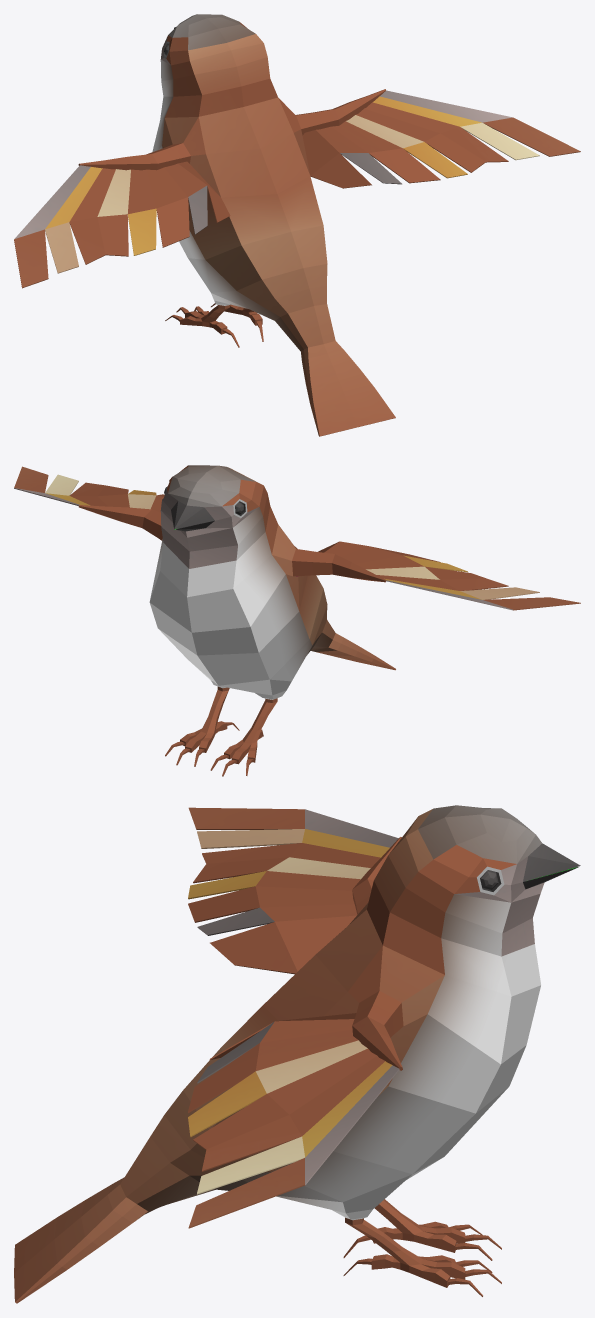
Rendered from SM_Bird.fbx.
3 renders of one model, top to bottom at view 1: azimuth 30°, elevation 25°; view 2: azimuth 150°, elevation 25°; view 3: azimuth 270°, elevation 25°, orthographic. The views are drawn at different scales.
Visible parts, largest first — view 1: SM_Bird_LOD0; view 2: SM_Bird_LOD0; view 3: SM_Bird_LOD0.
Part boxes in pixels (left/top/right/bottom): SM_Bird_LOD0: left=14, top=14, right=580, bottom=436; SM_Bird_LOD0: left=14, top=465, right=580, bottom=776; SM_Bird_LOD0: left=14, top=805, right=580, bottom=1303.
Size of the model in its own units: 804 by 412 by 459.
